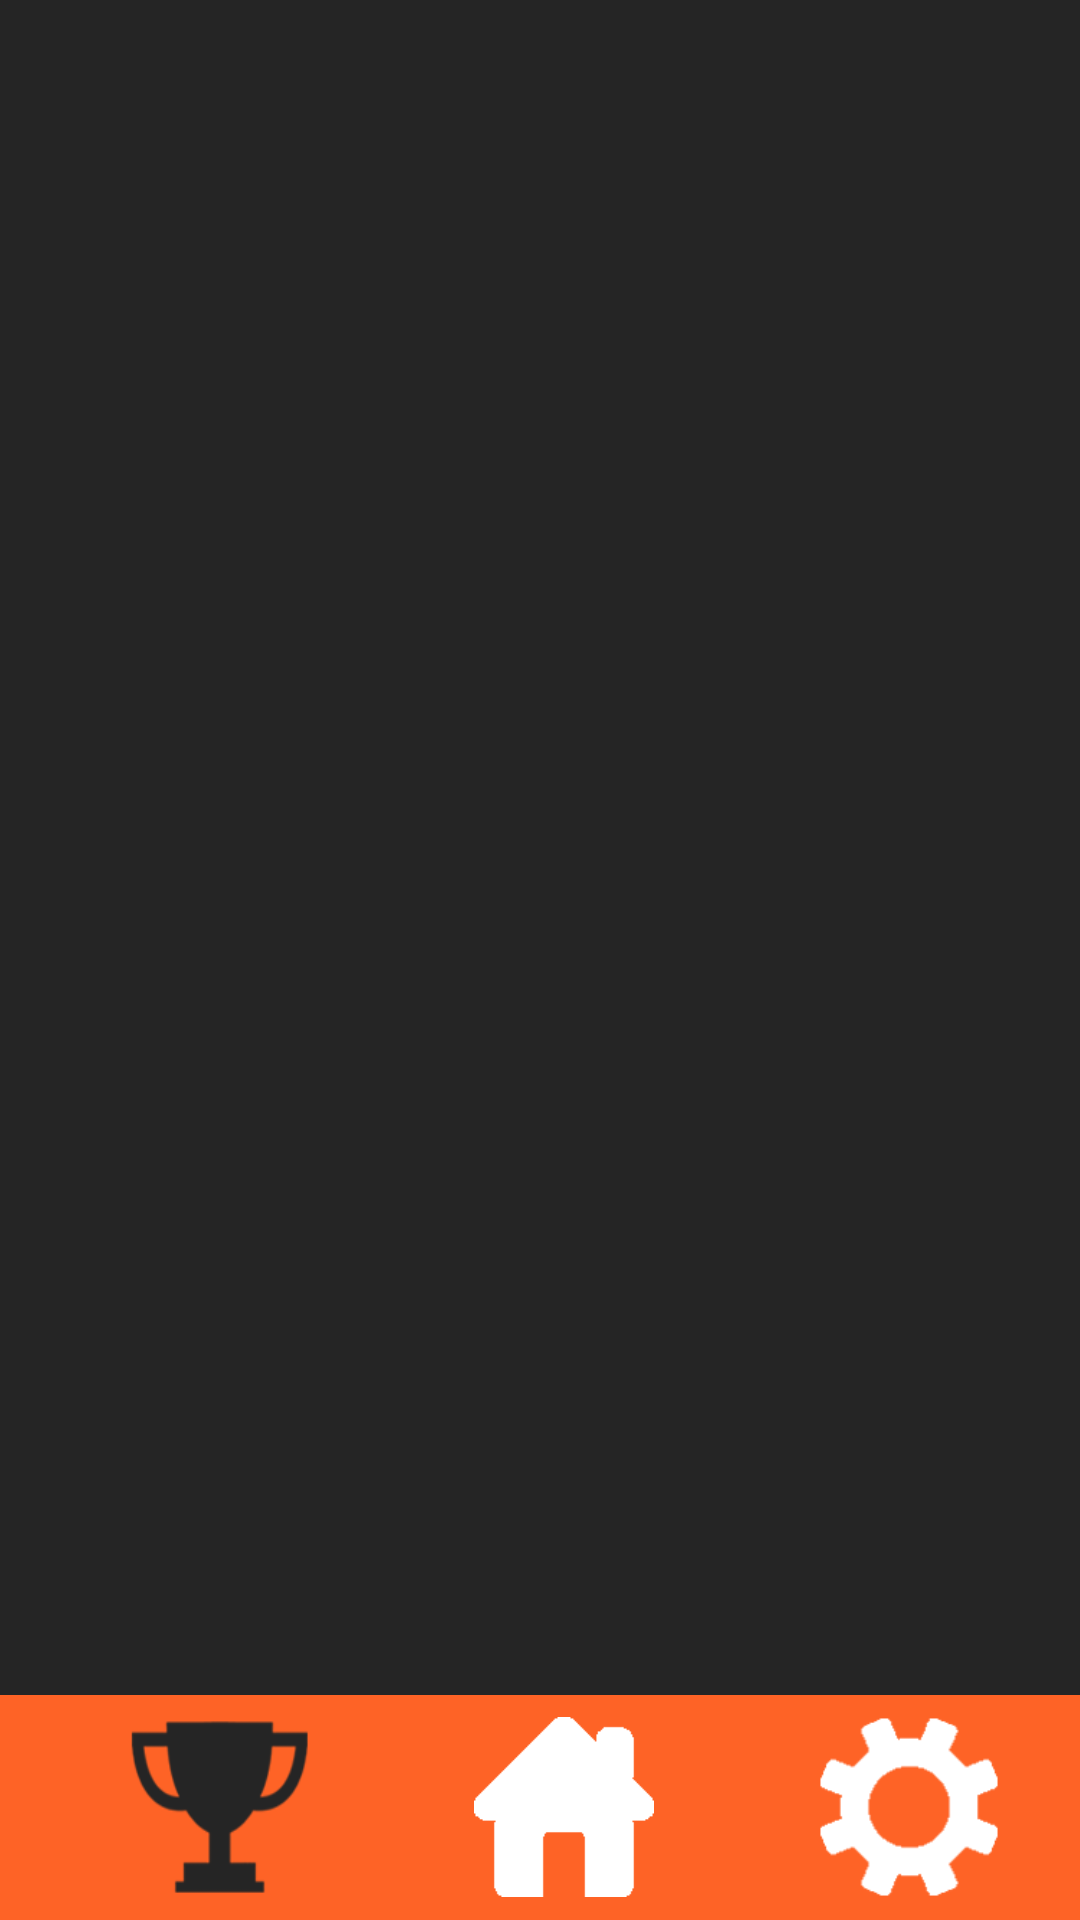

Where to tap for icons on this 1080*1920 app screen, as [x,y]:
house: [564,1807]
prize: [219,1807]
setting: [909,1807]
